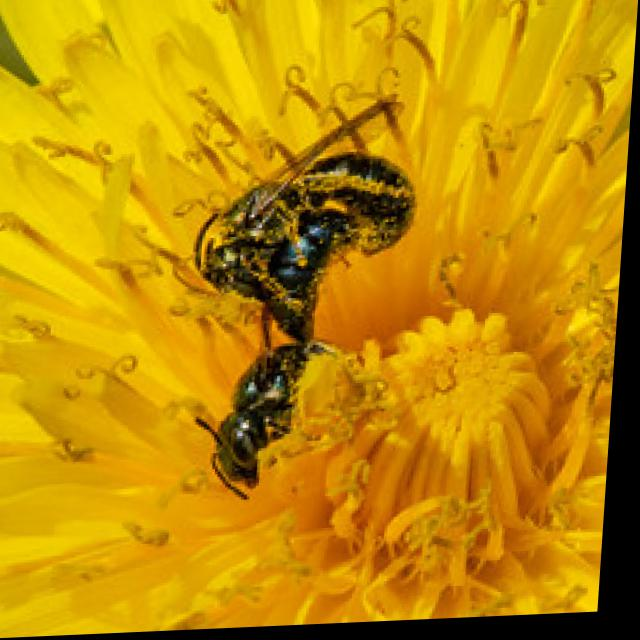Abeille: (152, 99, 434, 493)
